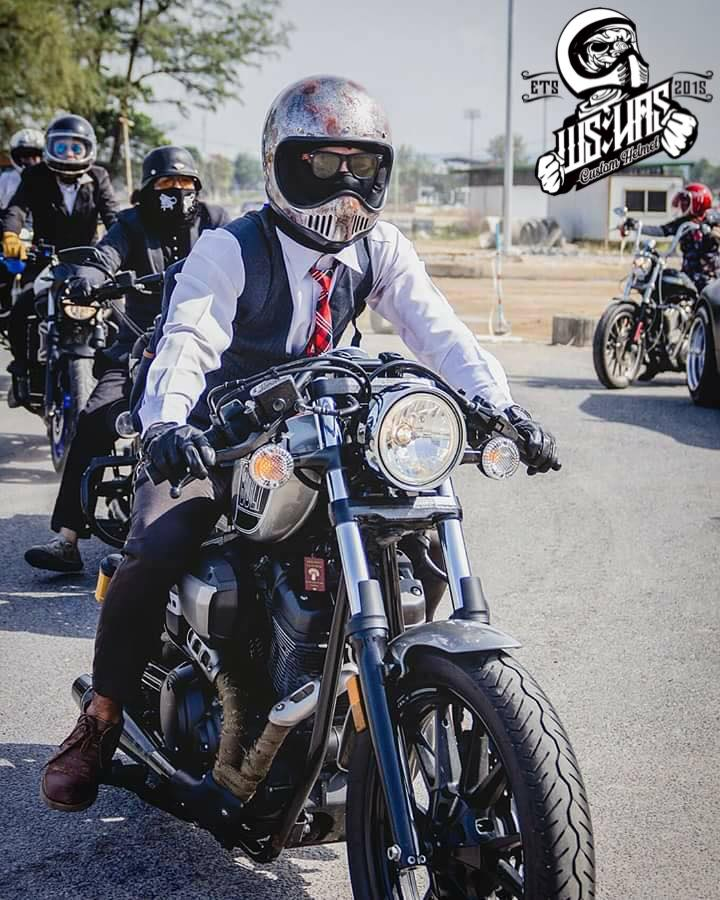helmet: (263, 75, 393, 254), (43, 115, 99, 175), (140, 145, 204, 187)
motorcycle: (152, 347, 593, 900), (601, 249, 695, 379), (32, 255, 115, 372)
